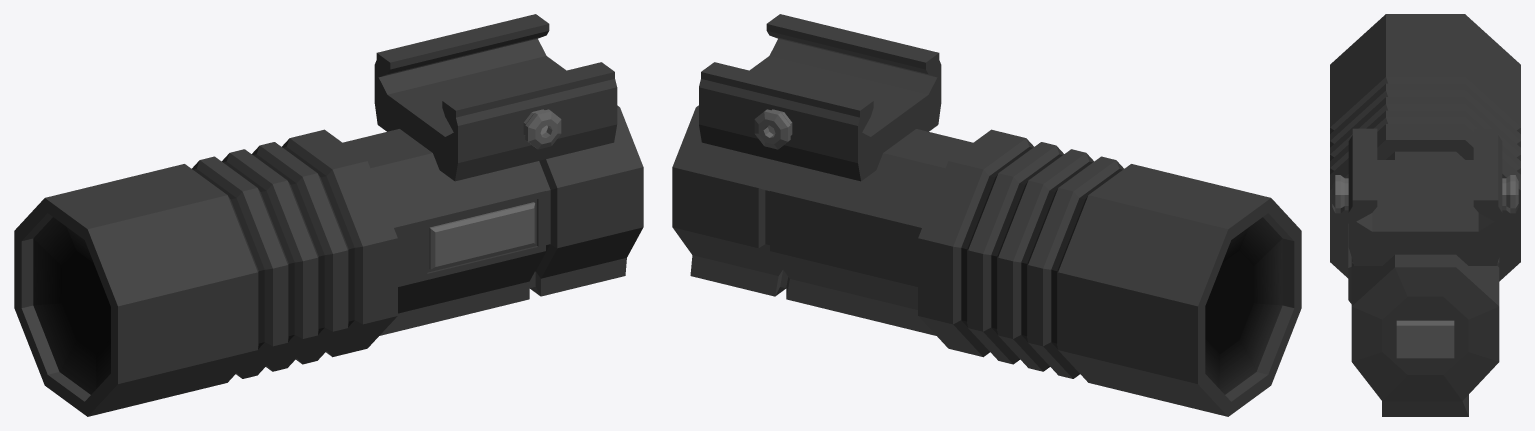
File: Attachment_Light_V1.glb
3 renders of one model, left to right at view 1: azimuth 30°, elevation 25°; view 2: azimuth 150°, elevation 25°; view 3: azimuth 270°, elevation 25°, orthographic. The views are drawn at different scales.
Parts seen in each view (by area): view 1: Attachment_Light_V1; view 2: Attachment_Light_V1; view 3: Attachment_Light_V1.
Boxes of the visible parts, left/top/right/bottom form: Attachment_Light_V1: left=14, top=14, right=643, bottom=416; Attachment_Light_V1: left=672, top=14, right=1301, bottom=416; Attachment_Light_V1: left=1330, top=14, right=1520, bottom=416.
Bounding box in the file's own units: 0.0881 × 0.0357 × 0.0286.
Materials: 1 (1 with a texture image).
